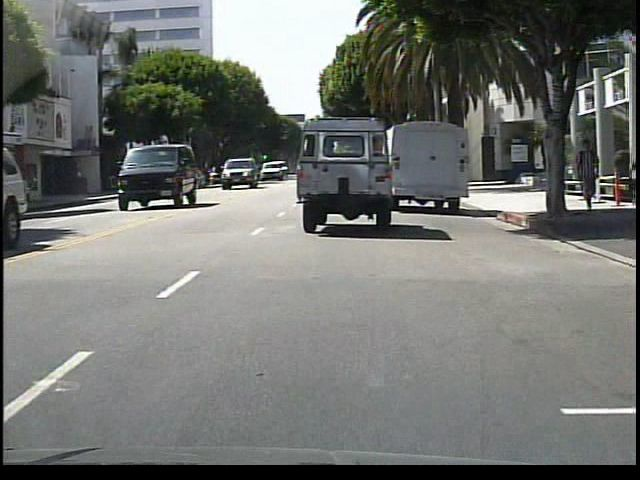person: (576, 136, 602, 214)
